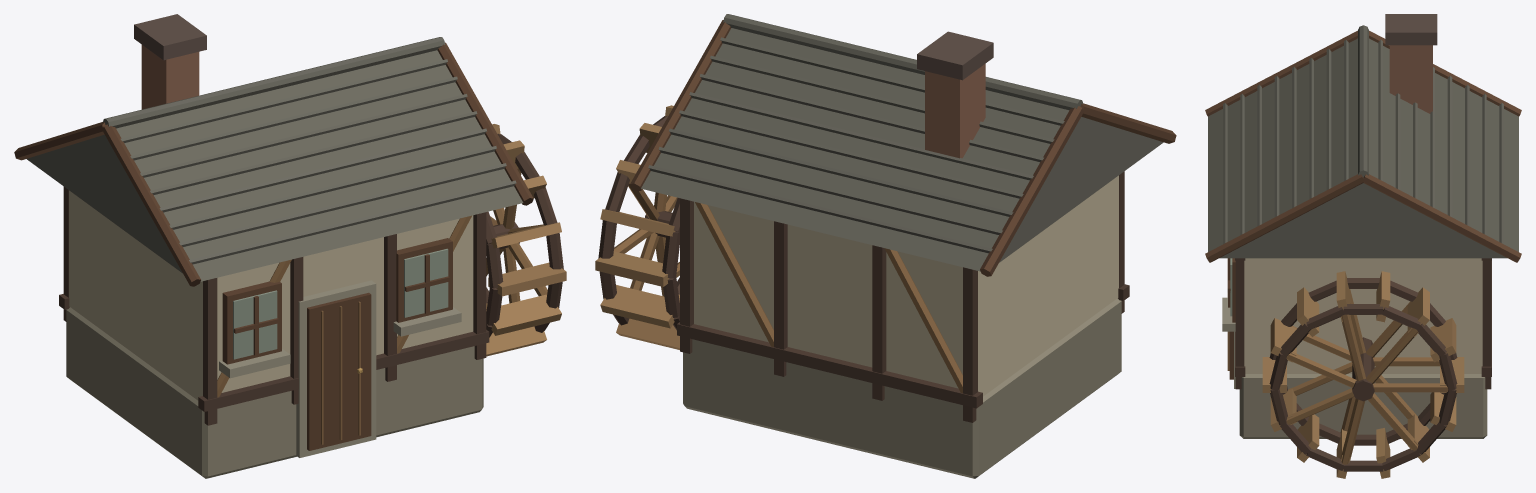
Rendered from watermill.glb.
3 renders of one model, left to right at view 1: azimuth 30°, elevation 25°; view 2: azimuth 150°, elevation 25°; view 3: azimuth 270°, elevation 25°, orthographic. The views are drawn at different scales.
Visible parts, largest first — view 1: SculptedModel, Oak paddle wheel; view 2: SculptedModel, Oak paddle wheel; view 3: SculptedModel, Oak paddle wheel.
Part boxes in pixels (x1,y1,x2,y2): SculptedModel: (14,14,533,478); Oak paddle wheel: (486,124,566,356); SculptedModel: (630,14,1176,478); Oak paddle wheel: (595,105,679,349); SculptedModel: (1205,14,1521,438); Oak paddle wheel: (1262,271,1464,478).
Bounding box in the file's own units: 4.84 × 4.1 × 3.64.
